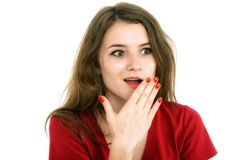face: (101, 21, 158, 98)
